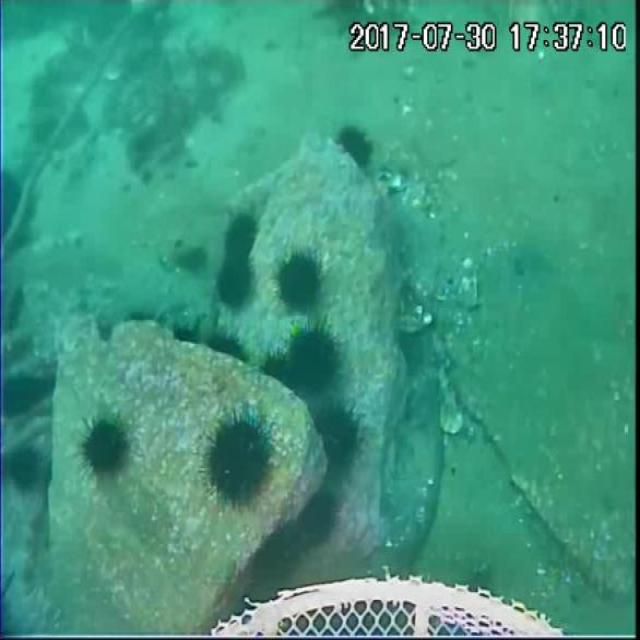echinus: (202, 411, 277, 509), (310, 400, 369, 473), (80, 414, 136, 486), (270, 248, 328, 316), (285, 323, 344, 389), (259, 348, 312, 397), (297, 485, 341, 543), (220, 213, 262, 270), (214, 259, 256, 313), (334, 125, 378, 173), (0, 164, 26, 239), (5, 443, 42, 493), (206, 328, 254, 365), (0, 372, 37, 413), (167, 320, 203, 347)
